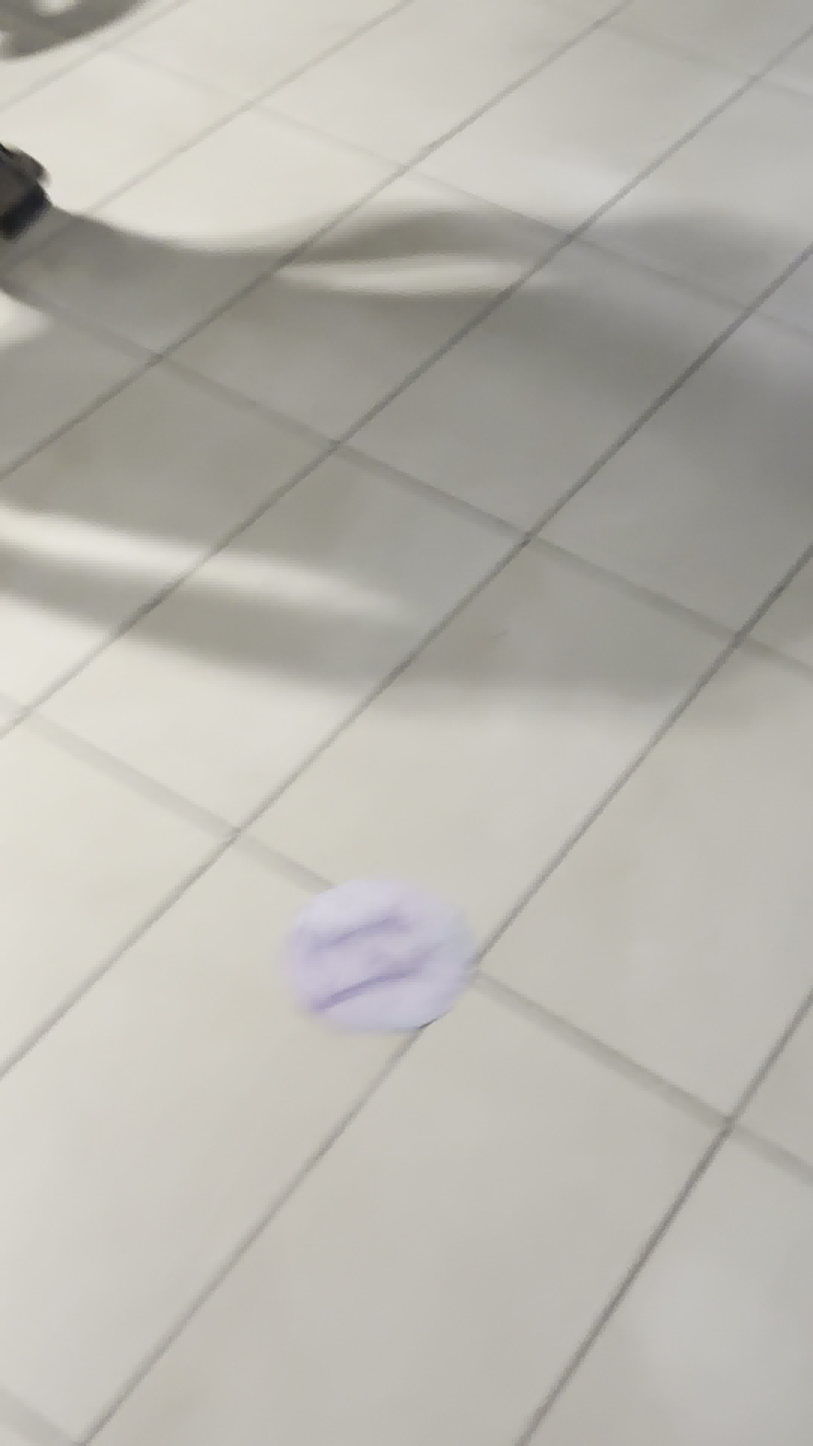Target: (285, 876, 473, 1035)
